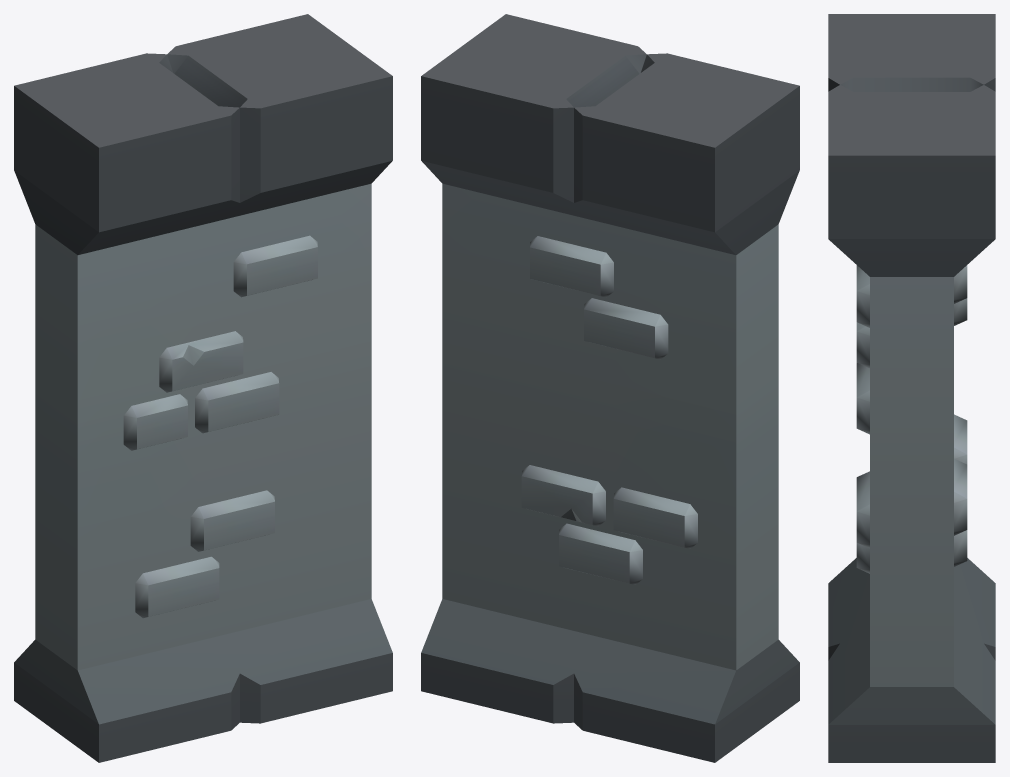
The model's file is wall_half.glb.
3 renders of one model, left to right at view 1: azimuth 30°, elevation 25°; view 2: azimuth 150°, elevation 25°; view 3: azimuth 270°, elevation 25°, orthographic.
Parts seen in each view (by area): view 1: wall_half; view 2: wall_half; view 3: wall_half.
Boxes of the visible parts, x1,y1,x2,y2 form: wall_half: (14,14,392,762); wall_half: (421,14,799,762); wall_half: (828,14,995,762).
Size of the model in its own units: 2 by 4 by 1.
1 material, 1 textured.
